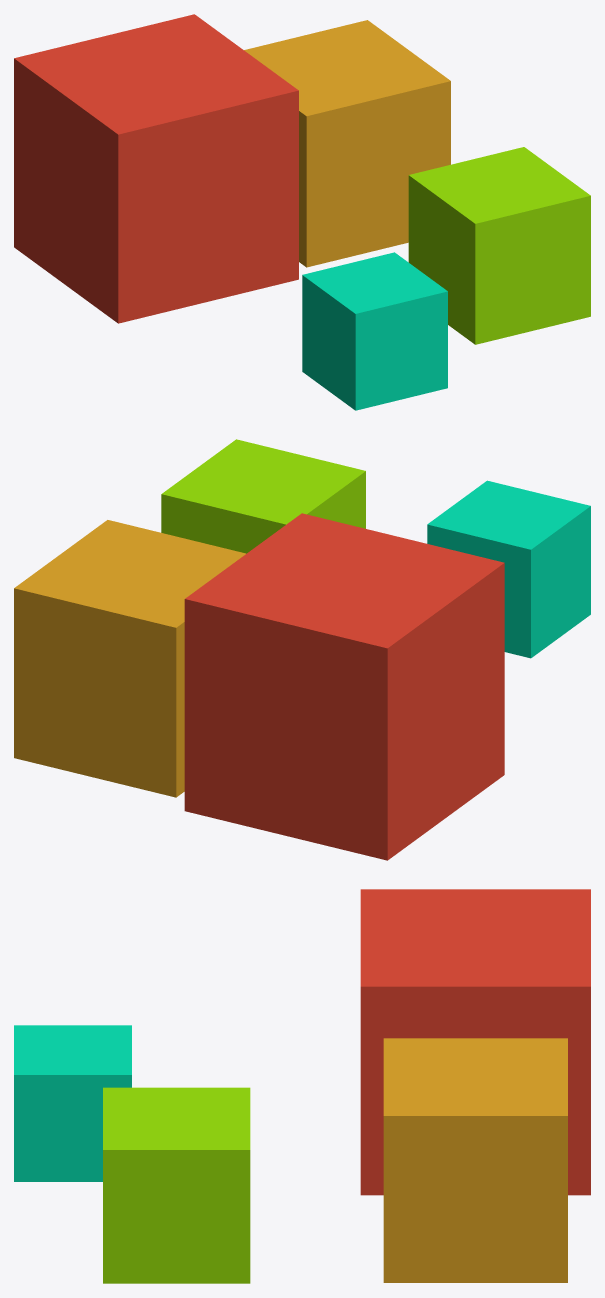
File: cubes.glb
3 renders of one model, top to bottom at view 1: azimuth 30°, elevation 25°; view 2: azimuth 150°, elevation 25°; view 3: azimuth 270°, elevation 25°, orthographic. The views are drawn at different scales.
Parts seen in each view (by area): view 1: Mesh1, Mesh2, Mesh3, Mesh4; view 2: Mesh1, Mesh2, Mesh4, Mesh3; view 3: Mesh2, Mesh1, Mesh3, Mesh4.
Part boxes in pixels (x1=…): Mesh1: x1=14, y1=14, x2=298, y2=323; Mesh2: x1=244, y1=20, x2=450, y2=267; Mesh3: x1=408, y1=147, x2=590, y2=344; Mesh4: x1=302, y1=252, x2=447, y2=410; Mesh1: x1=184, y1=513, x2=504, y2=860; Mesh2: x1=14, y1=520, x2=245, y2=797; Mesh4: x1=427, y1=480, x2=590, y2=658; Mesh3: x1=161, y1=439, x2=365, y2=553; Mesh2: x1=383, y1=1038, x2=567, y2=1282; Mesh1: x1=360, y1=889, x2=590, y2=1195; Mesh3: x1=103, y1=1087, x2=250, y2=1283; Mesh4: x1=14, y1=1025, x2=131, y2=1181.
Size of the model in its own units: 3.94 by 2 by 5.01.
